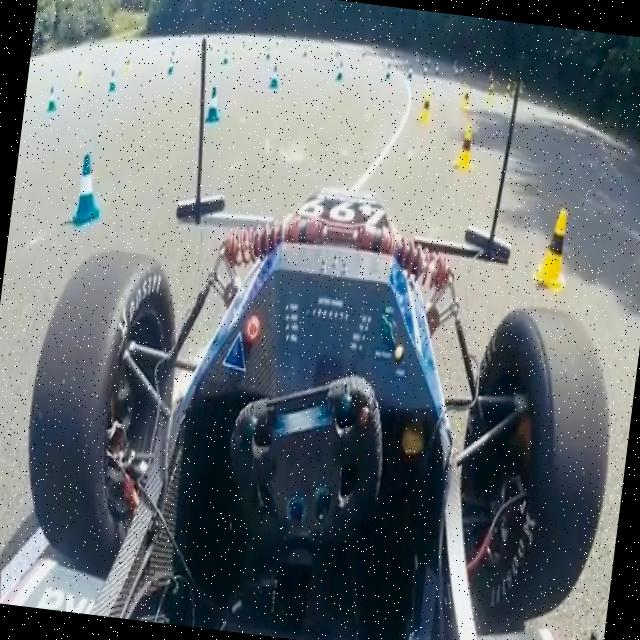blue_cone: (61, 138, 112, 226), (203, 79, 226, 123), (264, 56, 284, 92), (332, 52, 349, 83), (404, 58, 418, 84), (383, 58, 393, 86)
yellow_cone: (535, 195, 581, 296), (454, 118, 483, 169), (415, 88, 442, 134), (456, 84, 478, 106)
